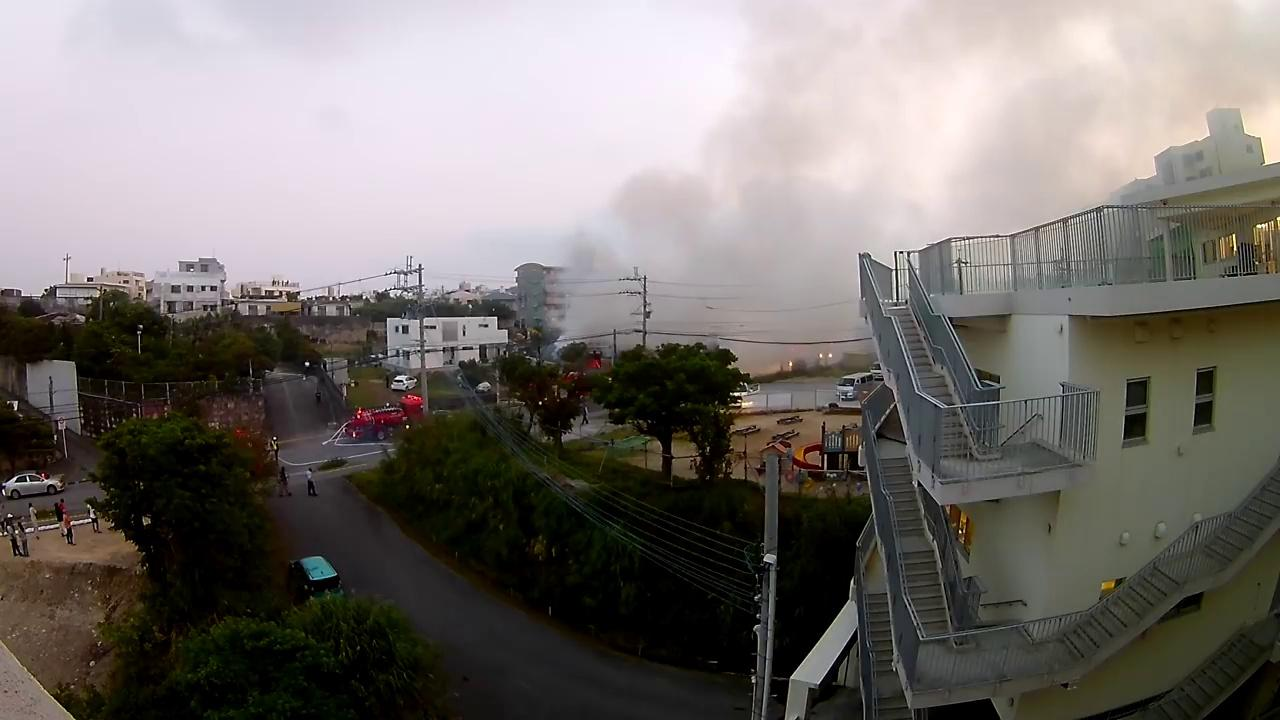smoke: (606, 184, 866, 332)
